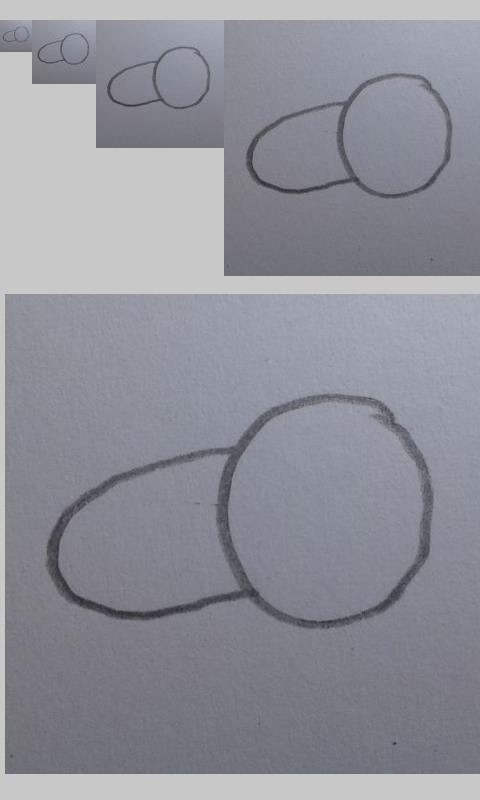switch: (44, 392, 437, 633), (246, 72, 453, 200), (106, 45, 211, 110), (37, 33, 90, 65), (3, 26, 30, 43)
